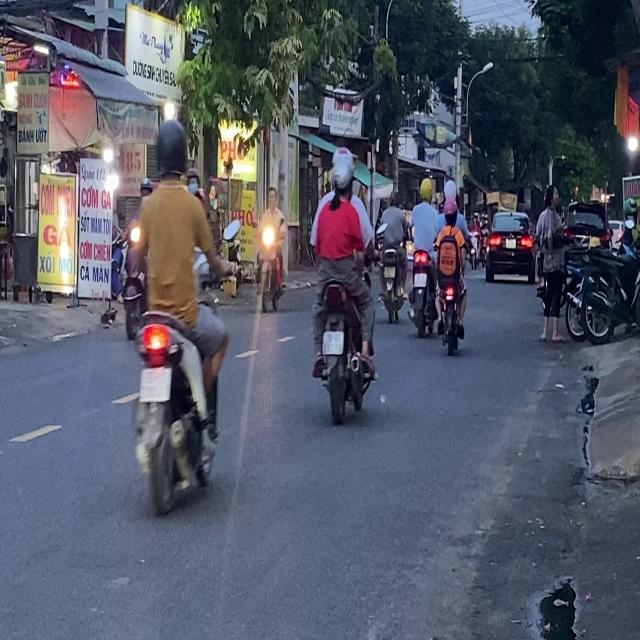helmet: (152, 117, 189, 184), (329, 147, 355, 199), (442, 198, 458, 225), (418, 177, 432, 202)
licenseplate: (128, 114, 230, 516), (307, 146, 378, 424), (436, 181, 470, 353), (408, 177, 440, 336), (255, 183, 287, 312)
motorcyclist: (266, 184, 277, 207)
nohelmet: (139, 366, 171, 401), (322, 331, 343, 354), (414, 273, 426, 287)
